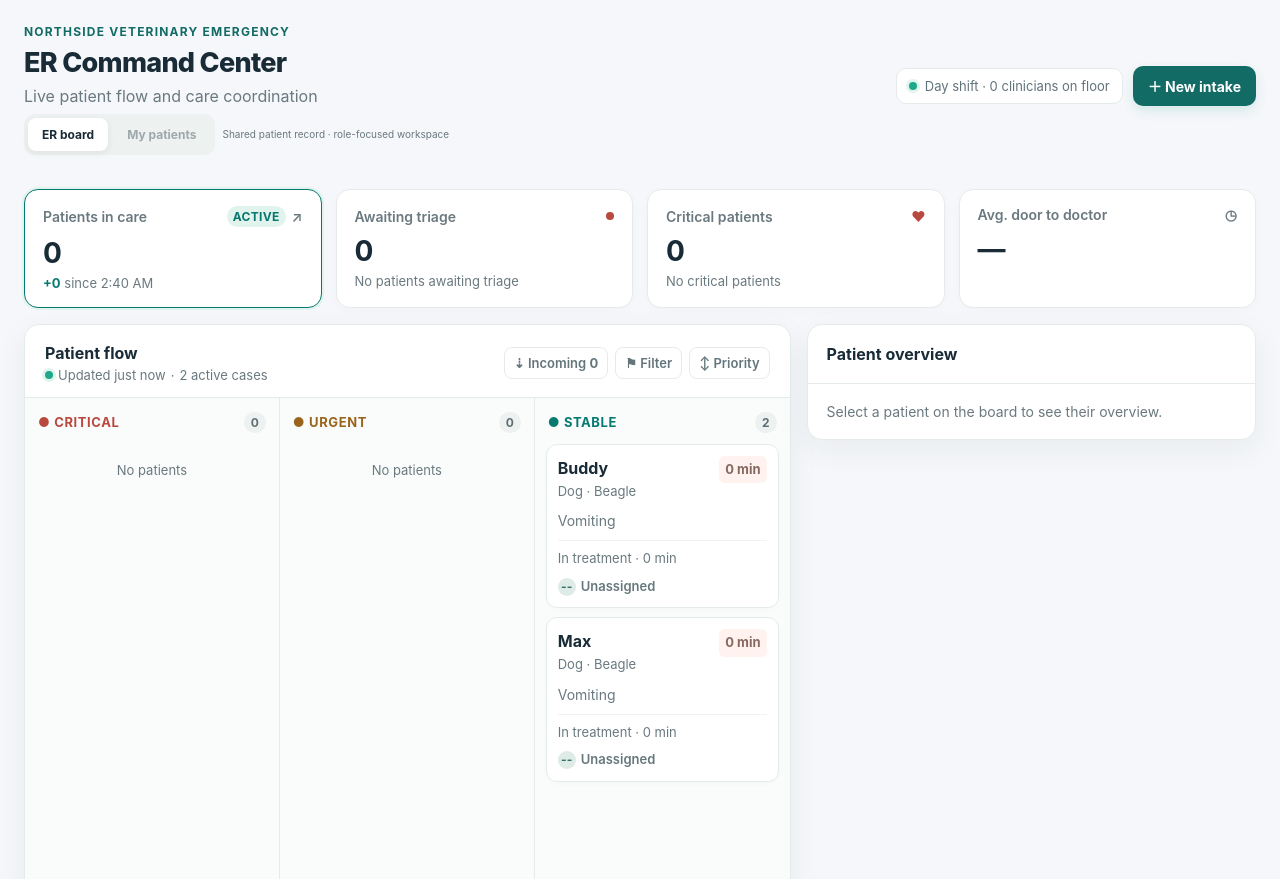
Test: ErBoardPage › opens the patient's history from the overview and comes back to the same case
The width and height of the screenshot is (1280, 879).
Click the button "Buddy" at (583, 468), box 558,456 -> 608,480
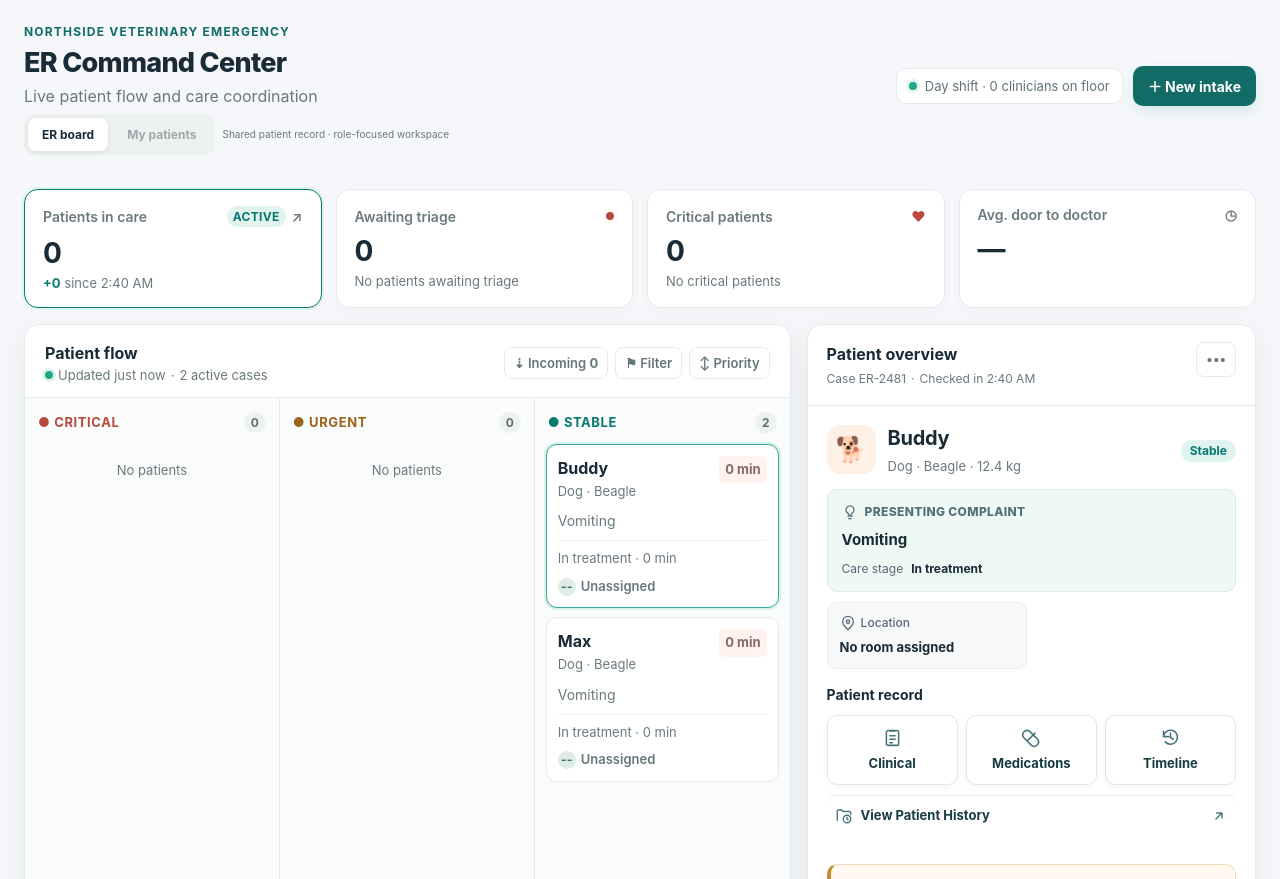
Click the link "View Patient History" at (925, 815), box 827,795 -> 1236,836
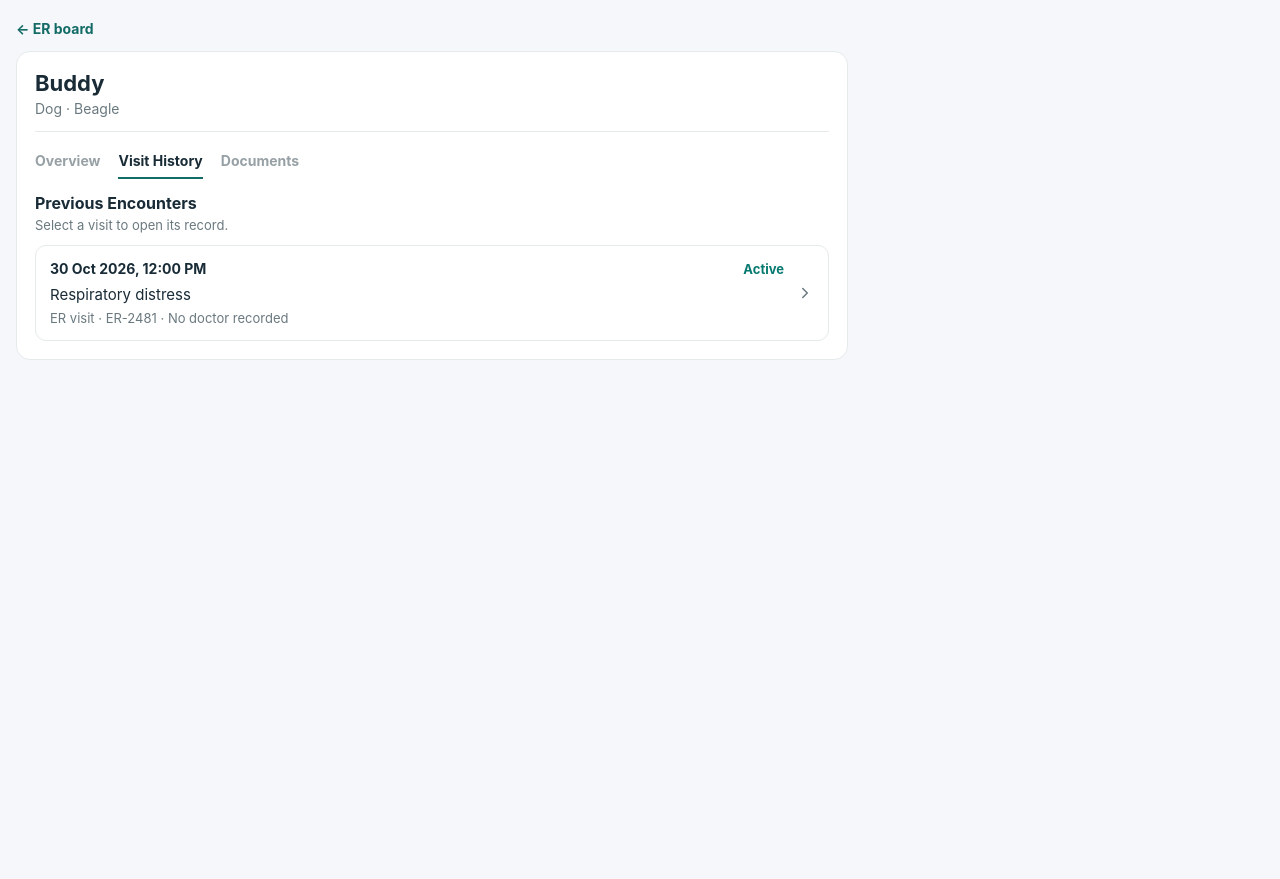
Expected: the heading "Buddy" is shown, 35,70 -> 104,96
Expected: the text "Active" is shown, 743,261 -> 784,277
Click the link "← ER board" at (55, 28), box 16,20 -> 94,37
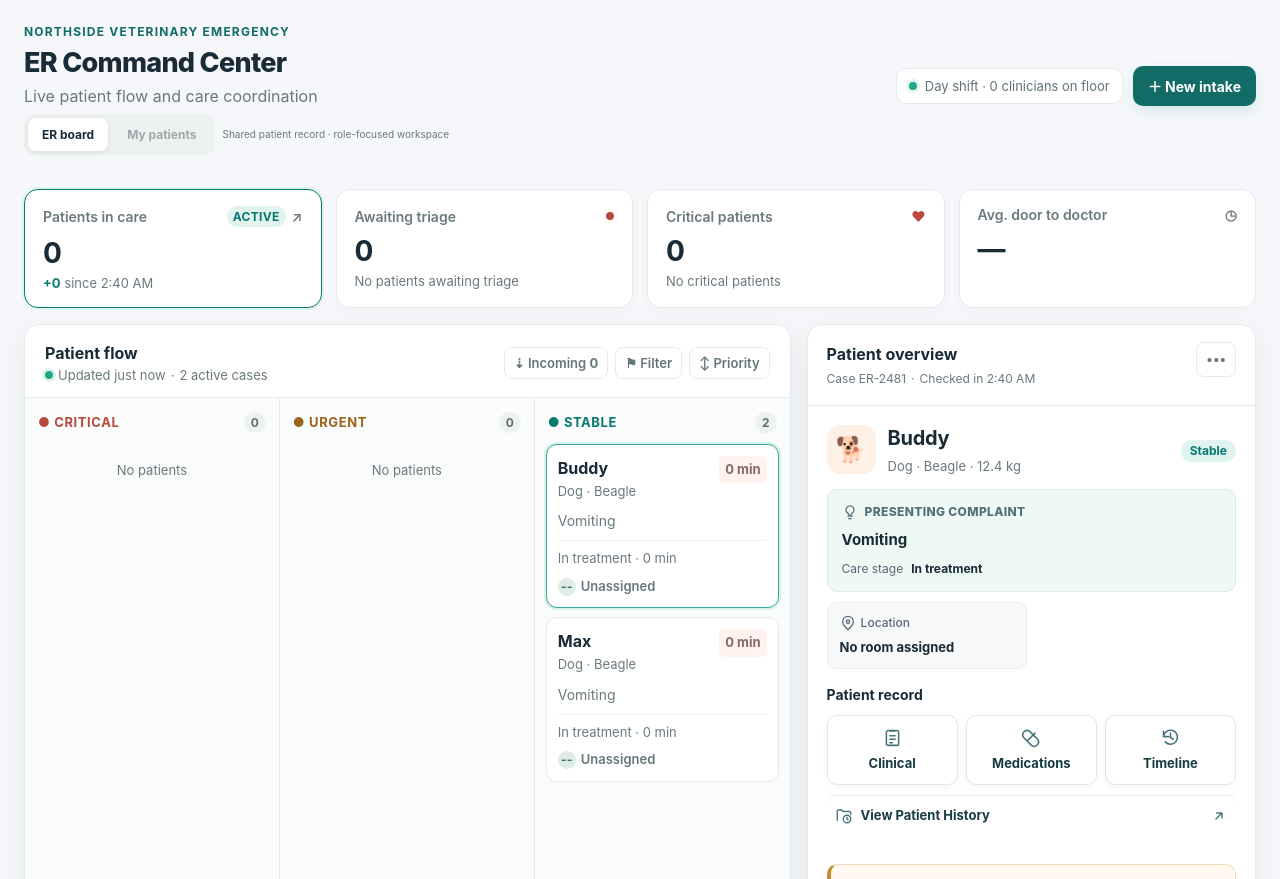
Result: the text "Case ER-2481·Checked in 2:40 AM" is shown at 827,370 -> 1035,388
